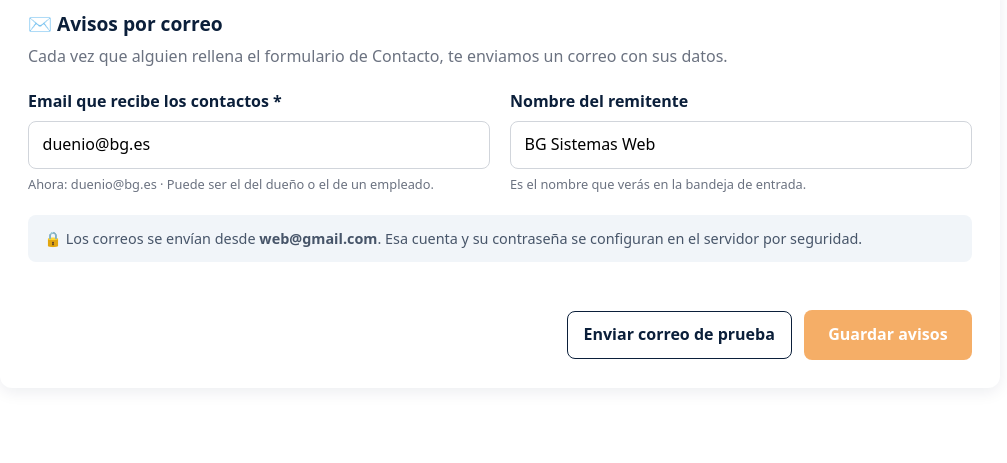
it: MailSettingsForm (BGSI-261) › saves the new email and shows where the next emails will go
Replace the text in the field with id "mail-notify-email" with "nuevo@bg.es" at (259, 145), box [28,120,490,169]
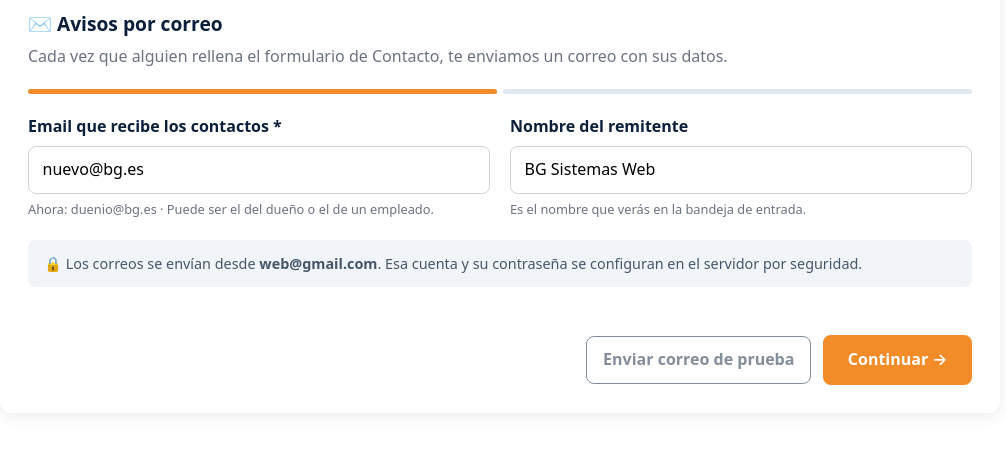
Submit the form, box [28,89,972,385]
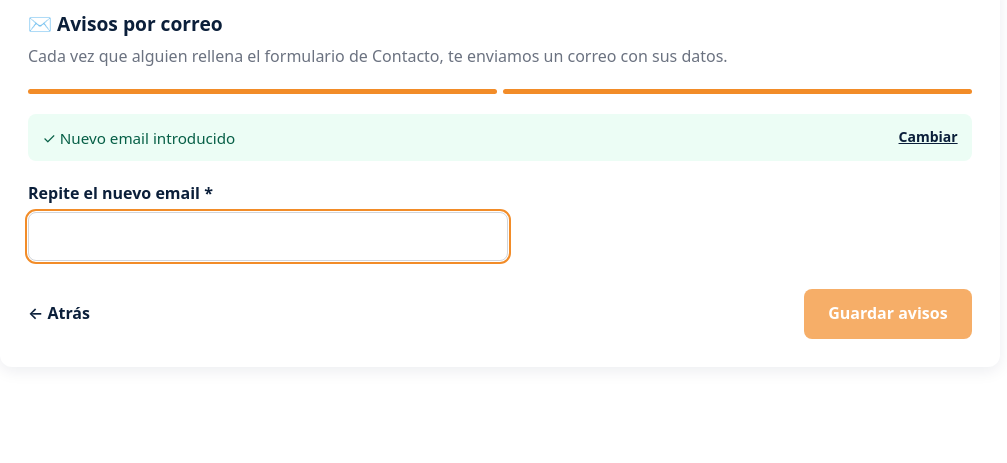
Type "nuevo@bg.es" into the field with id "mail-confirm-email" at (268, 236), box [28,212,508,261]
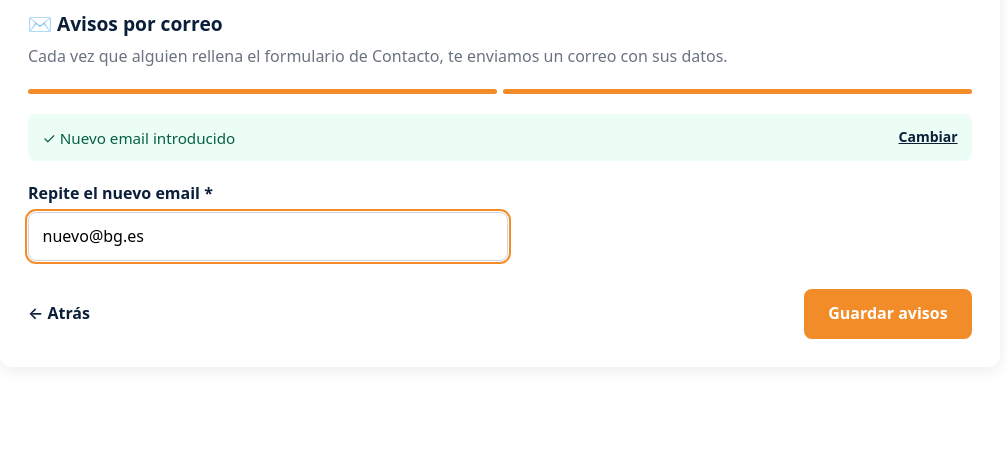
Submit the form, box [28,89,972,339]
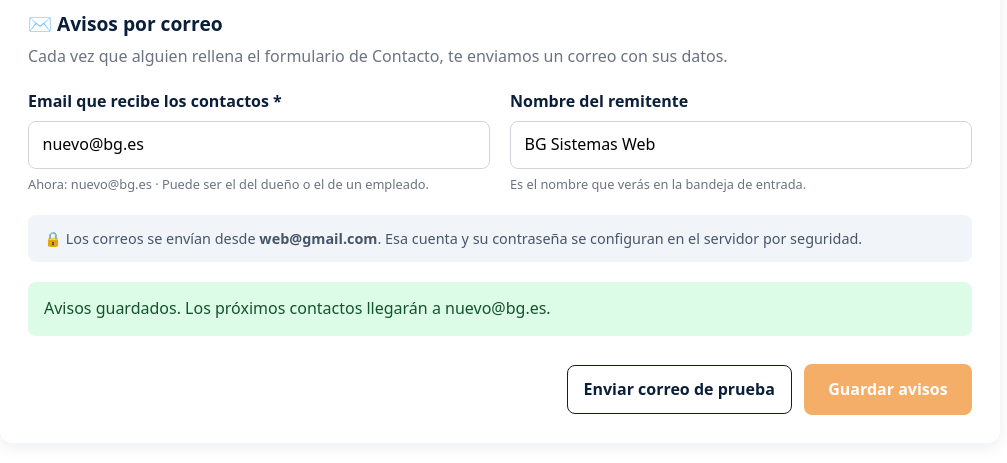
Check: the message "Avisos guardados. Los próximos contactos llegarán a nuevo@bg.es." is shown, box [28,282,972,336]
